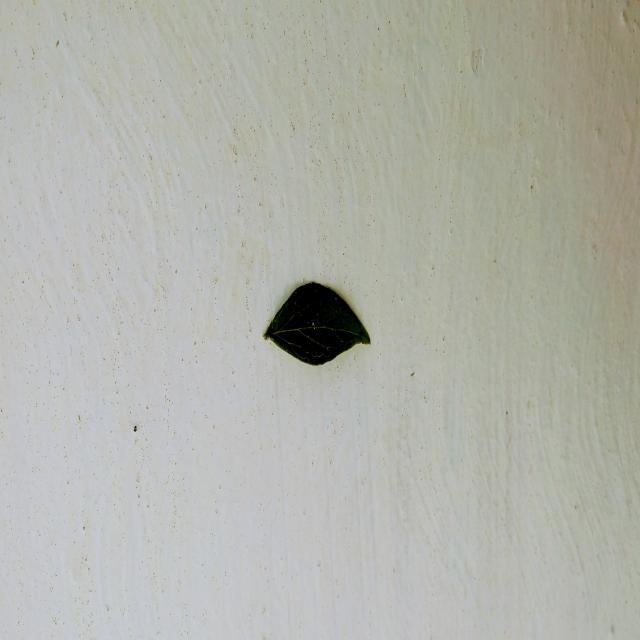leaf: (262, 280, 370, 366)
